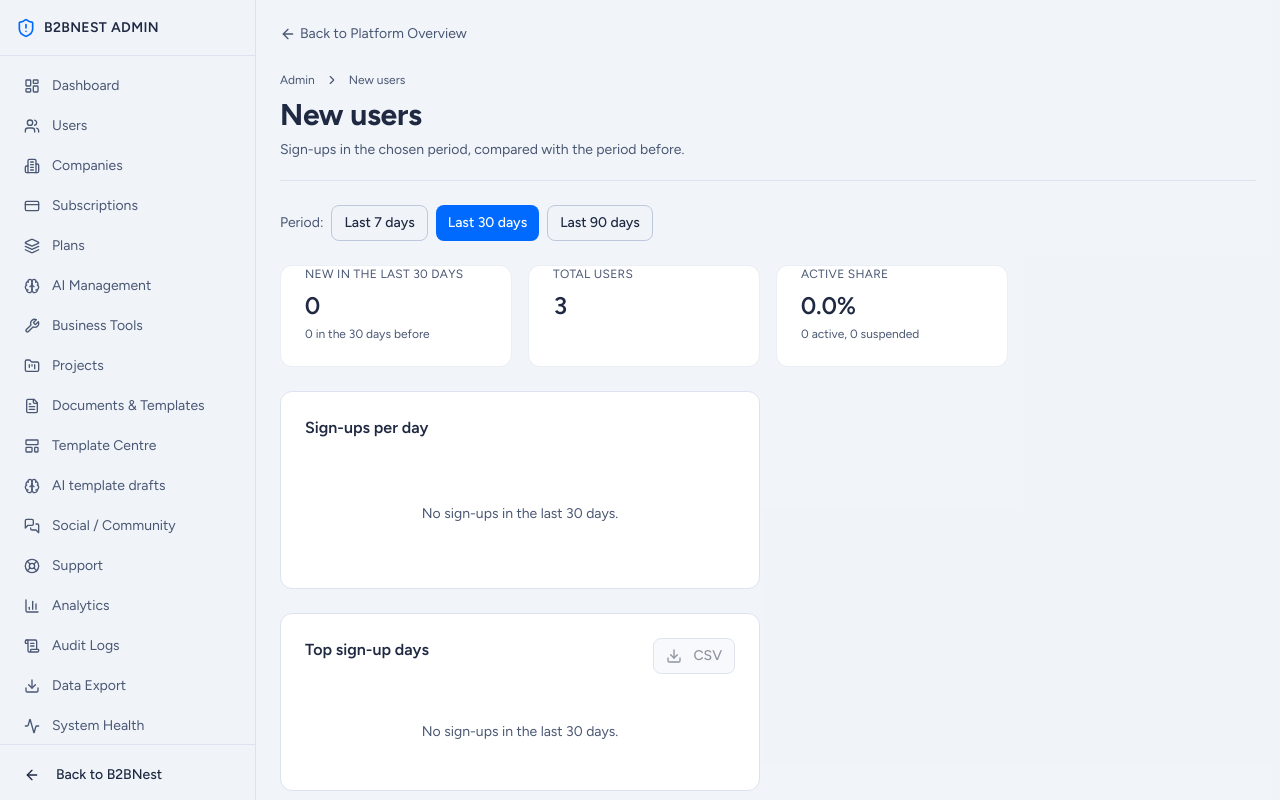
metric page › date range: 30 days by default, 7 days on request
Check: the heading "New users" is shown, box x1=280 y1=96 x2=422 y2=133
Click the button "Last 7 days".
click(380, 223)  # box x1=332 y1=205 x2=428 y2=241
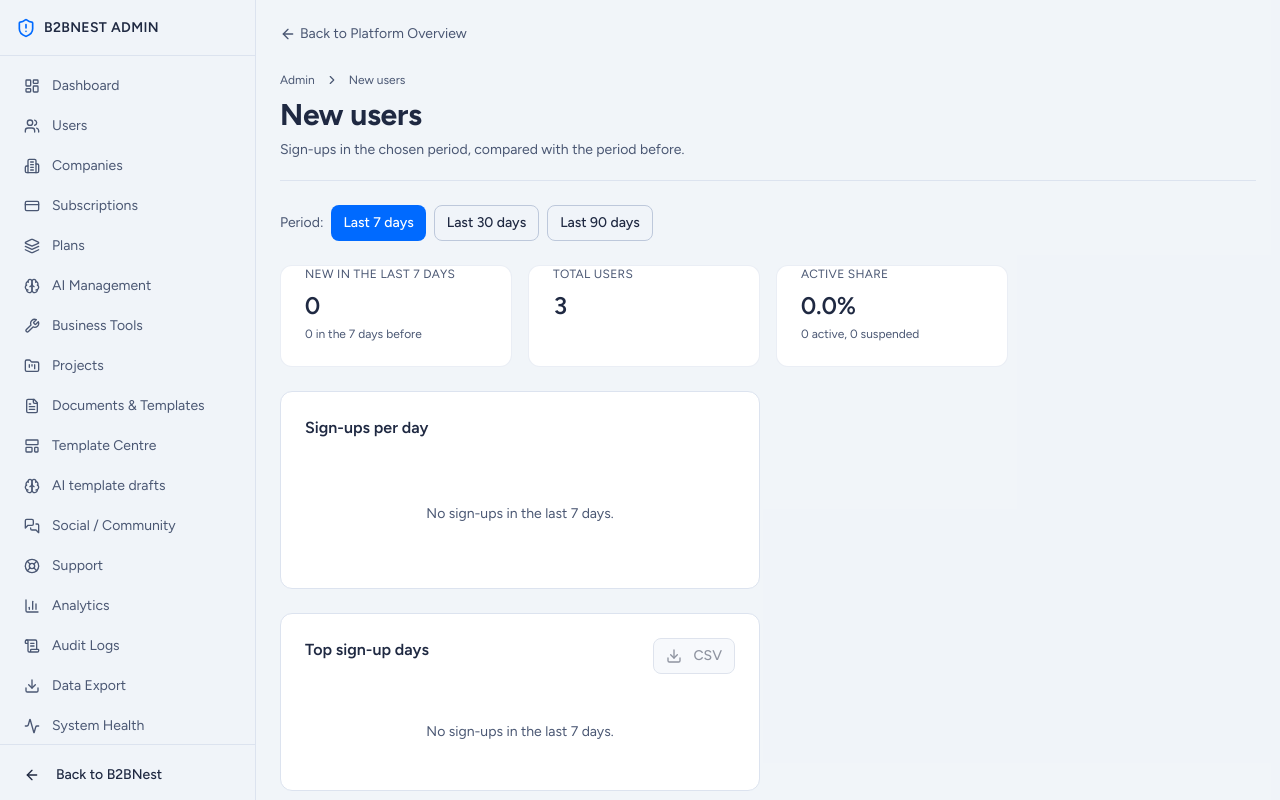
Check: the button "Last 7 days" is pressed, box x1=332 y1=205 x2=426 y2=241
